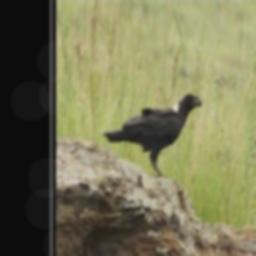Crow: (101, 92, 203, 177)
